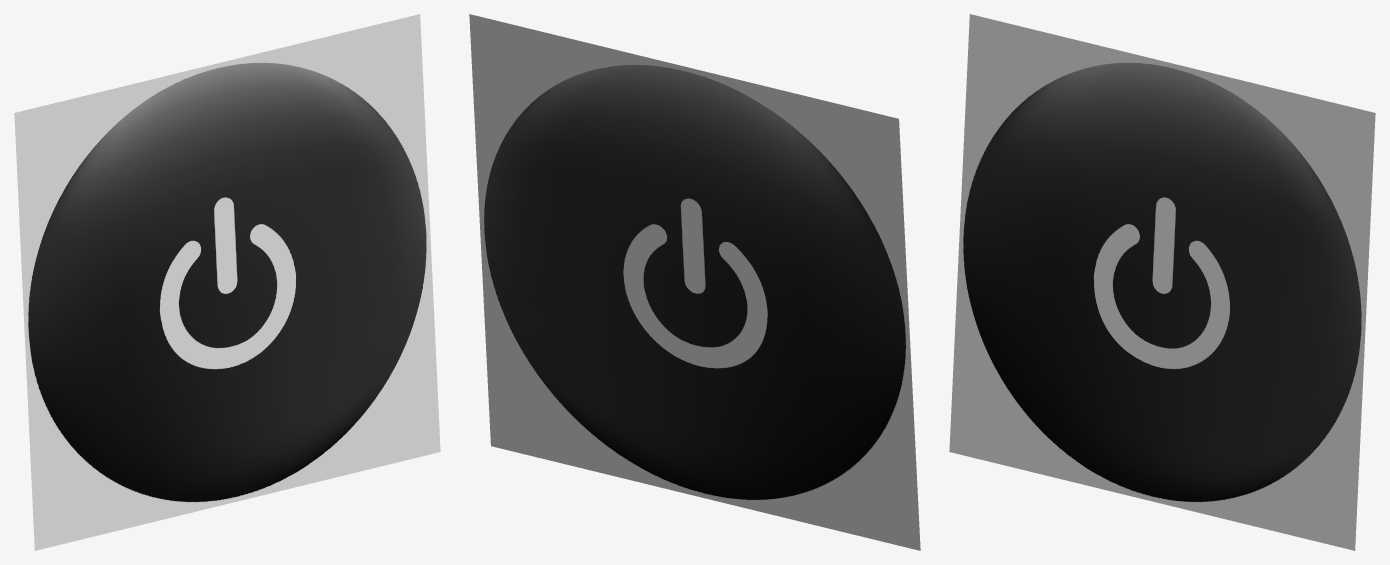
File: OnButtonHMI.glb
3 views of the same model, side by side, from view 1: azimuth 30°, elevation 25°; view 2: azimuth 150°, elevation 25°; view 3: azimuth 330°, elevation 25° (orthographic). The views are drawn at different scales.
Parts seen in each view (by area): view 1: OnButtonHMI; view 2: OnButtonHMI; view 3: OnButtonHMI.
Boxes of the visible parts, x1=… form: OnButtonHMI: x1=14, y1=14, x2=440, y2=550; OnButtonHMI: x1=469, y1=14, x2=920, y2=550; OnButtonHMI: x1=949, y1=14, x2=1375, y2=550.
Bounding box in the file's own units: 0.03 × 0.0299 × 0.00261.
1 material, 1 textured.
